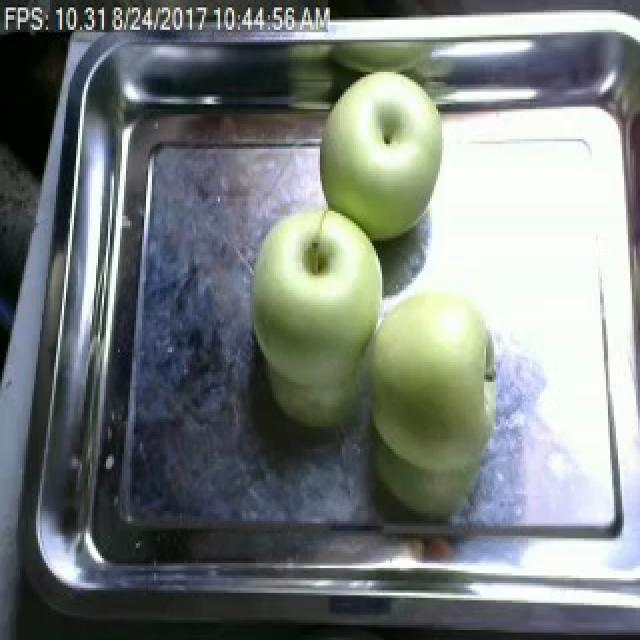50-_ripeness: (306, 68, 460, 241), (358, 290, 499, 478), (252, 213, 390, 374)
